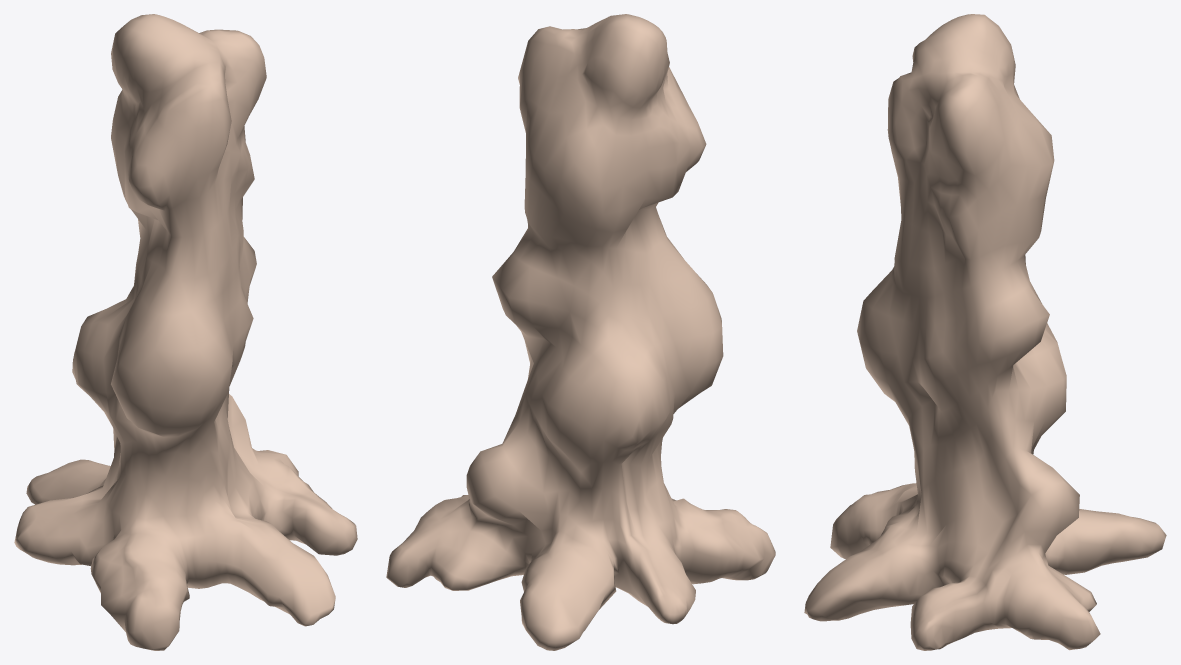
Rendered from Nast2LP.fbx.
The picture shows the model from 3 angles, left to right: view 1: azimuth 30°, elevation 25°; view 2: azimuth 150°, elevation 25°; view 3: azimuth 270°, elevation 25°; orthographic projection. The views are drawn at different scales.
Visible parts, largest first — view 1: Nast2_low; view 2: Nast2_low; view 3: Nast2_low.
Boxes of the visible parts, x1,y1,x2,y2 form: Nast2_low: [14, 14, 357, 650]; Nast2_low: [386, 14, 775, 650]; Nast2_low: [804, 14, 1166, 650].
Size of the model in its own units: 23.48 by 46.67 by 27.
